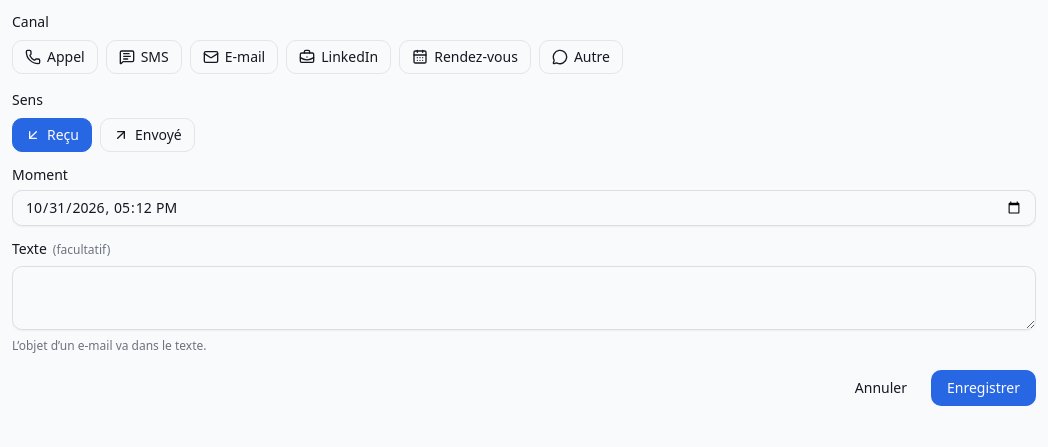
Test case: ExchangeForm › shows the refusal of the API on its field
Click the radio button labelled "Rendez-vous": (465, 57) [399, 40, 531, 74]
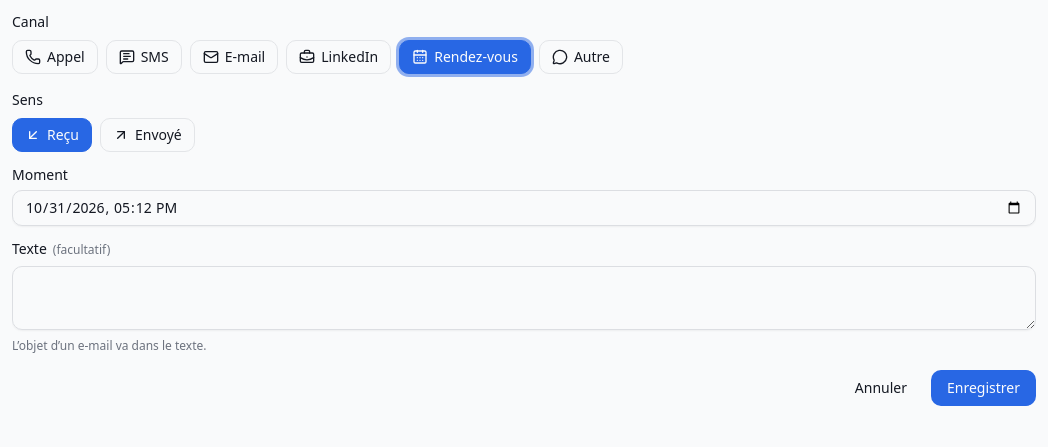
Click the button "Enregistrer": (984, 388) [931, 370, 1036, 406]
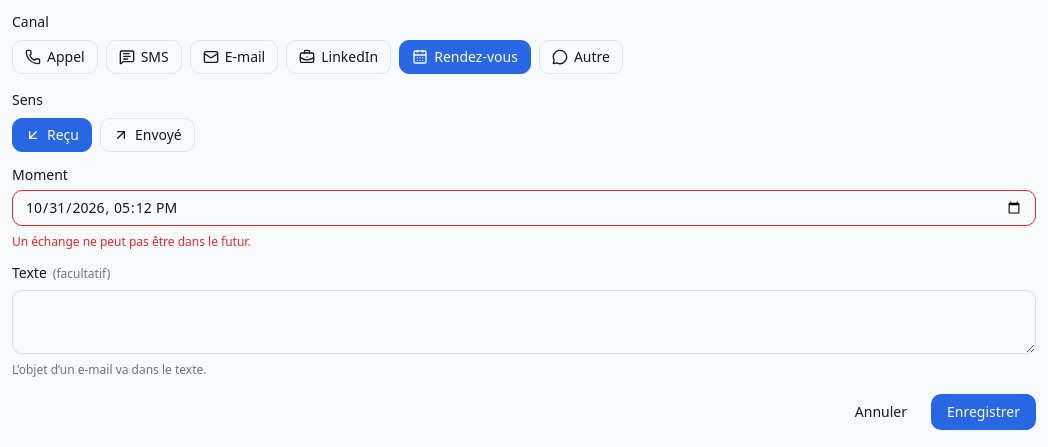
Expected: the text "Un échange ne peut pas être dans le futur." is shown, [12, 233, 251, 250]
